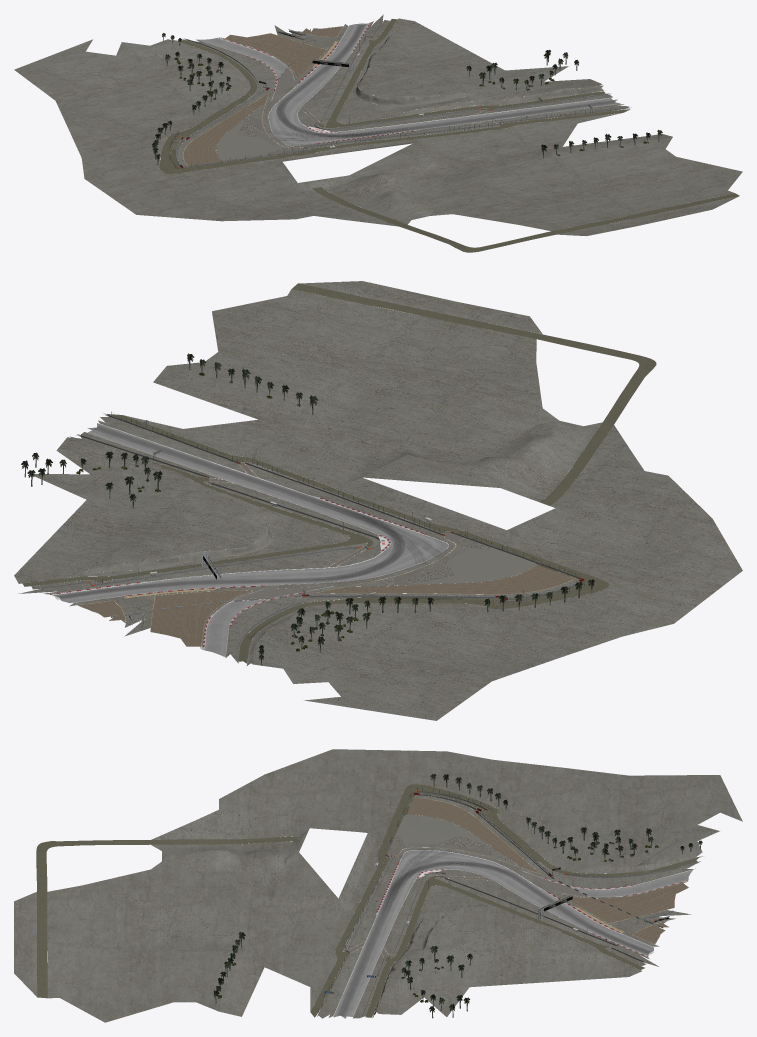
3 views of the same model, one above another, from view 1: azimuth 30°, elevation 25°; view 2: azimuth 150°, elevation 25°; view 3: azimuth 270°, elevation 25° (orthographic). The views are drawn at different scales.
Visible parts, largest first — view 1: tile_t00; view 2: tile_t00; view 3: tile_t00.
Part boxes in pixels (<box>): tile_t00: <box>14,14,742,252</box>; tile_t00: <box>14,281,742,720</box>; tile_t00: <box>14,749,742,1022</box>.
Size of the model in its own units: 448 by 25.67 by 512.
35 materials, 35 textured.
